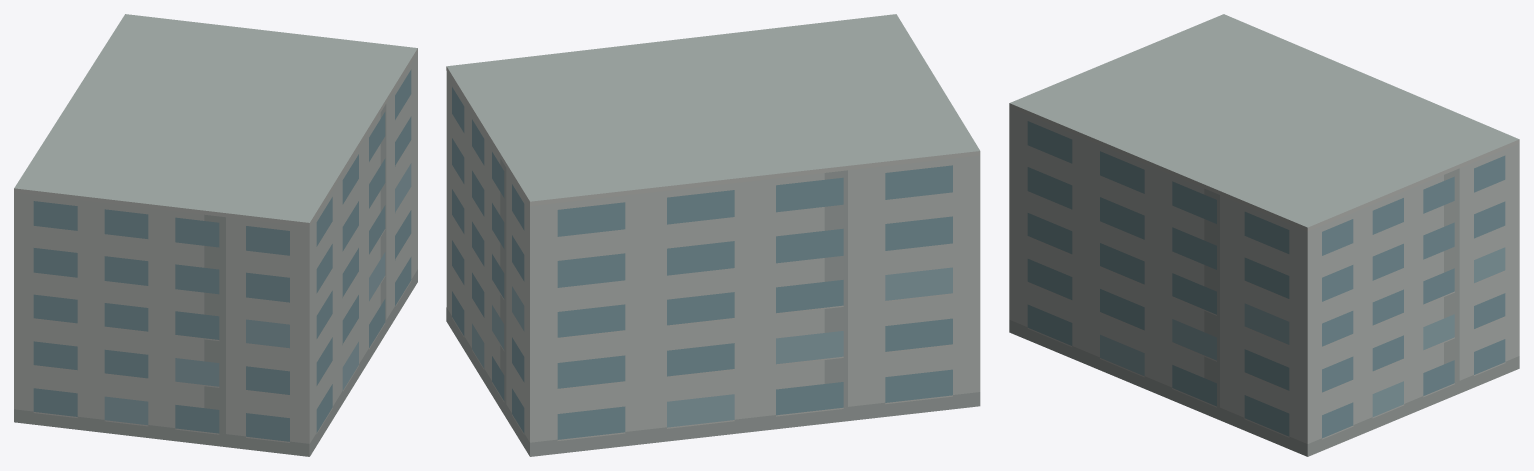
Rendered from survey-upis-32979639.glb.
3 renders of one model, left to right at view 1: azimuth 30°, elevation 25°; view 2: azimuth 150°, elevation 25°; view 3: azimuth 270°, elevation 25°, orthographic. The views are drawn at different scales.
Parts seen in each view (by area): view 1: survey-upis-32979639.tmp; view 2: survey-upis-32979639.tmp; view 3: survey-upis-32979639.tmp.
Boxes of the visible parts, left/top/right/bottom form: survey-upis-32979639.tmp: left=14, top=14, right=417, bottom=456; survey-upis-32979639.tmp: left=446, top=14, right=980, bottom=456; survey-upis-32979639.tmp: left=1009, top=14, right=1519, bottom=456.
Size of the model in its own units: 27.67 by 13.85 by 27.93.
